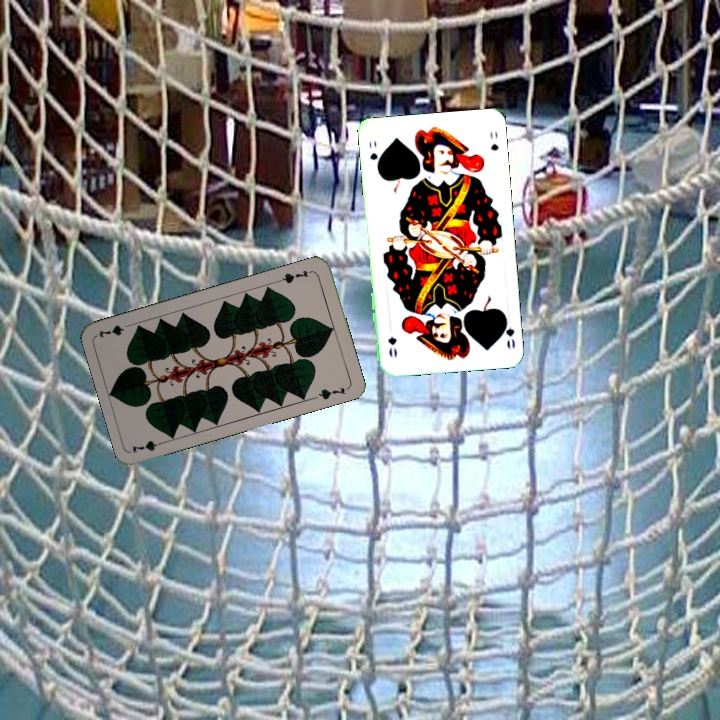G7: (275, 266, 315, 286), (128, 436, 169, 455)
GO: (498, 311, 517, 351), (365, 136, 383, 173)
